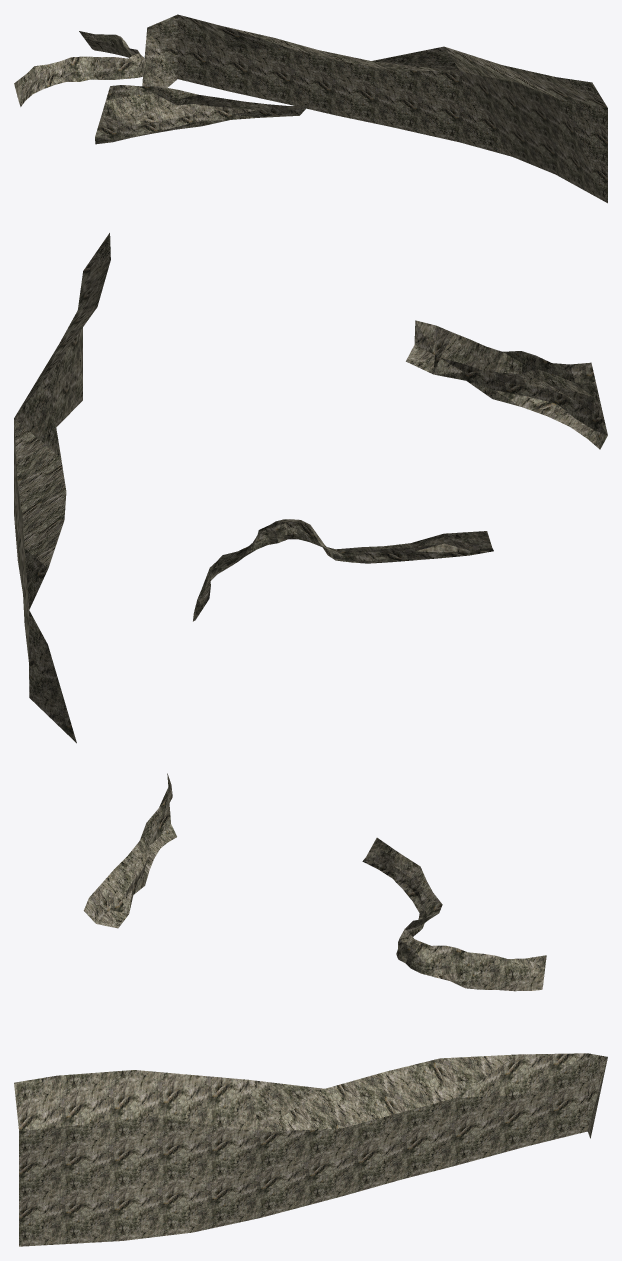
The model's file is ce_ground05a.obj.
3 renders of one model, top to bottom at view 1: azimuth 30°, elevation 25°; view 2: azimuth 150°, elevation 25°; view 3: azimuth 270°, elevation 25°, orthographic. The views are drawn at different scales.
Parts seen in each view (by area): view 1: CE_ground05A; view 2: CE_ground05A; view 3: CE_ground05A.
Part boxes in pixels (<box>): CE_ground05A: <box>14,14,607,203</box>; CE_ground05A: <box>14,233,607,743</box>; CE_ground05A: <box>14,773,607,1246</box>.
Bounding box in the file's own units: 258 × 111 × 244.
1 material, 1 textured.
